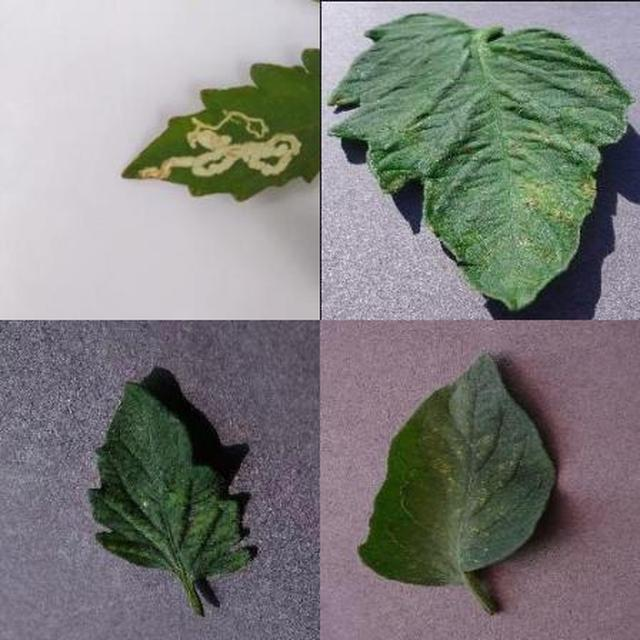Leaf Miner: (244, 179, 640, 640)
